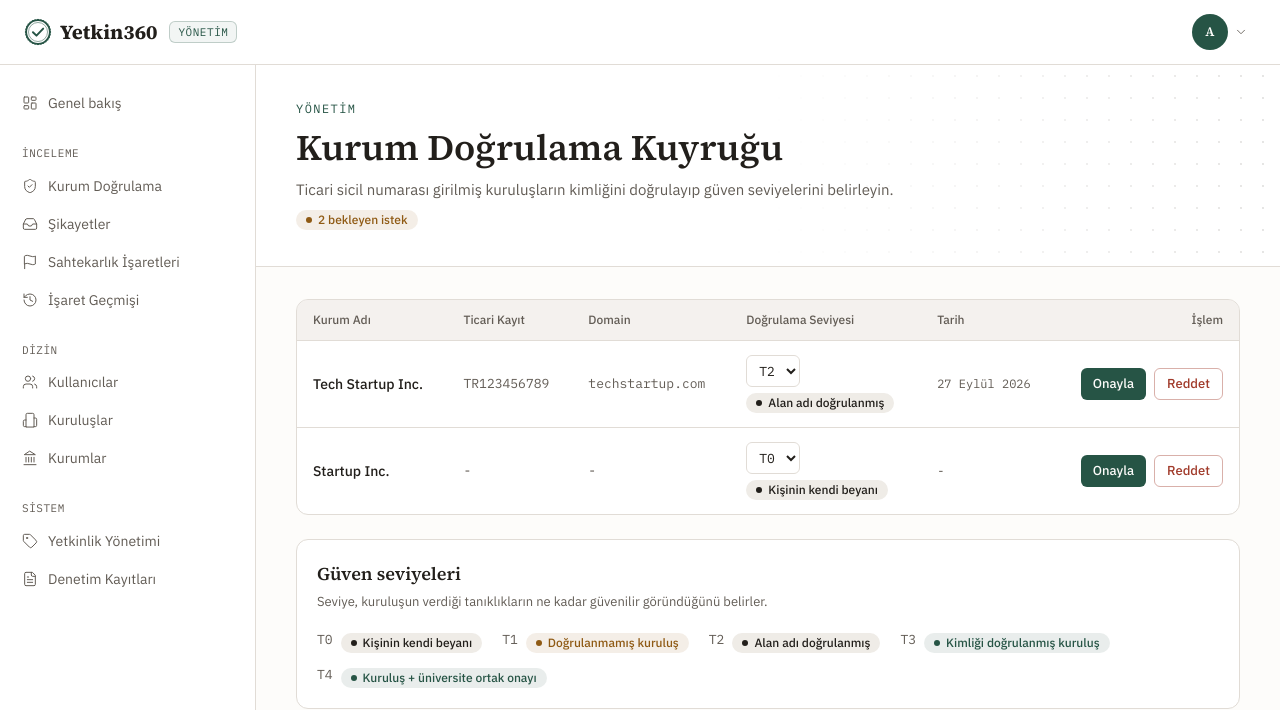
Scenario: DogrulamaKuyruguPage (/admin/dogrulama-kuyrugu) › AC-8: mutation hatası — önceki liste durumu korunur, optimistic update YOK
Check: the text "Tech Startup Inc." is shown, box [313,374,423,394]
// Seviye seçiş yap
Select "T3" in the dropdown showing "T2" at (773, 371), box [746,355,800,387]
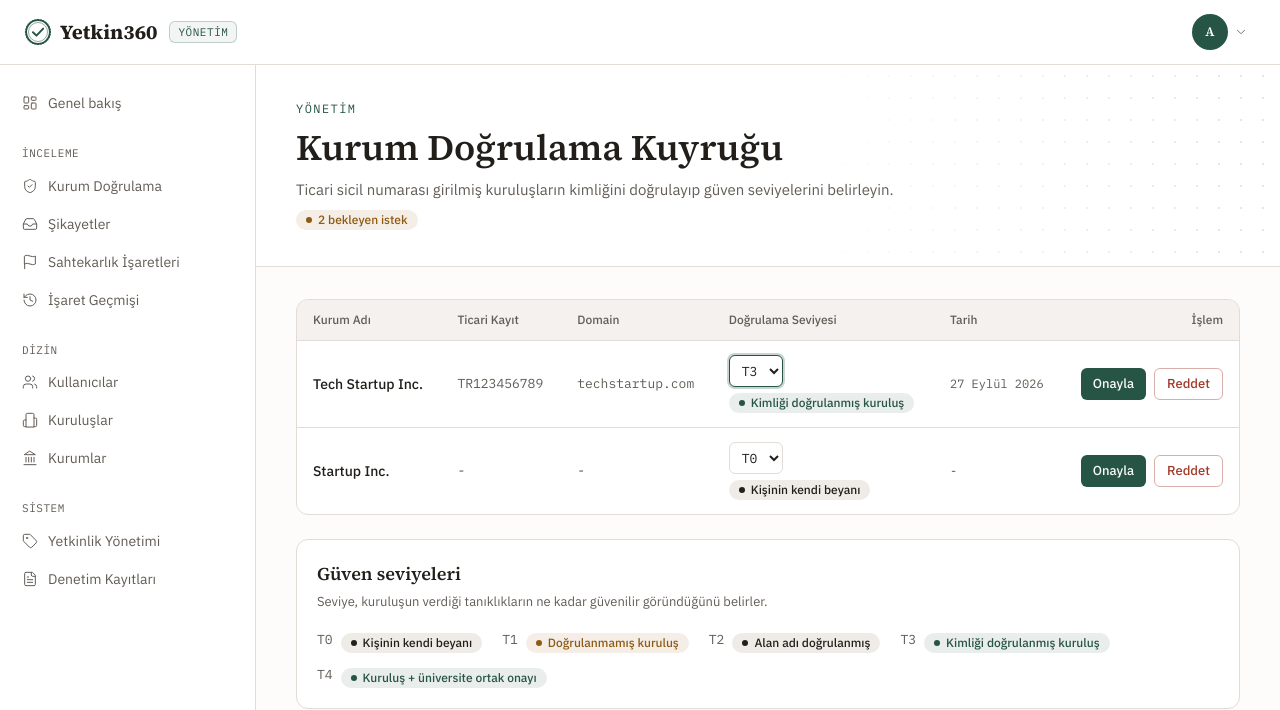
Click the button "Onayla" in the row of "Tech Startup Inc." at (1114, 384), box [1081,368,1146,400]
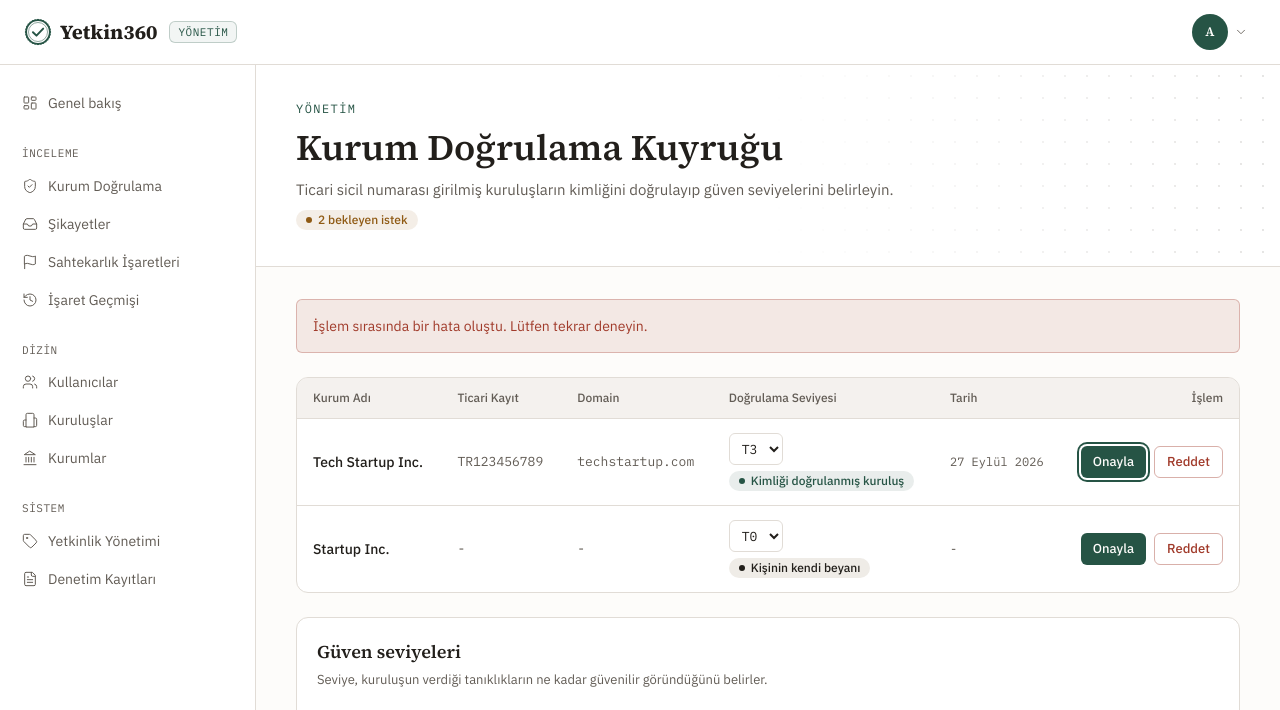
Check: the text "Tech Startup Inc." shows "TR123456789", box [457,453,543,470]
Check: the message shows "hata", box [313,317,648,335]
